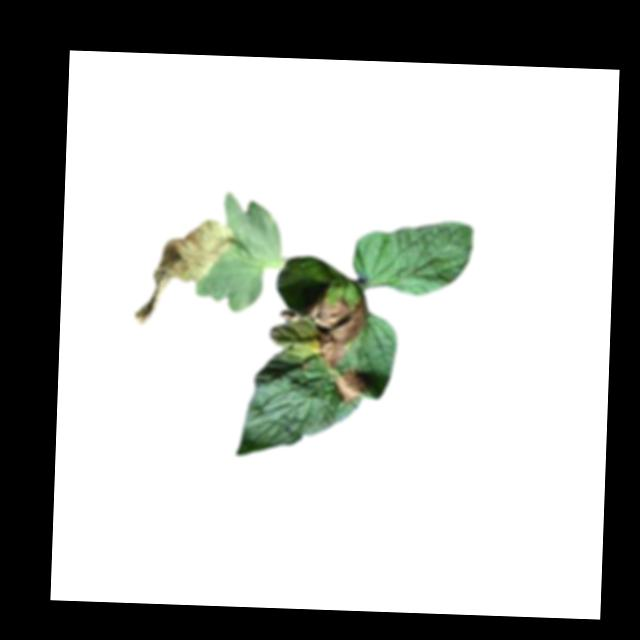Late_blight: (132, 216, 238, 330), (276, 288, 367, 369), (328, 368, 369, 405)
